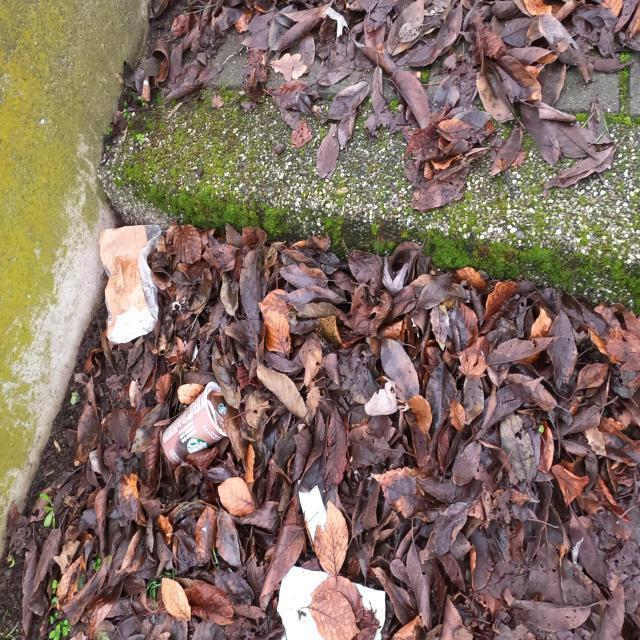Cup: (160, 379, 232, 468)
